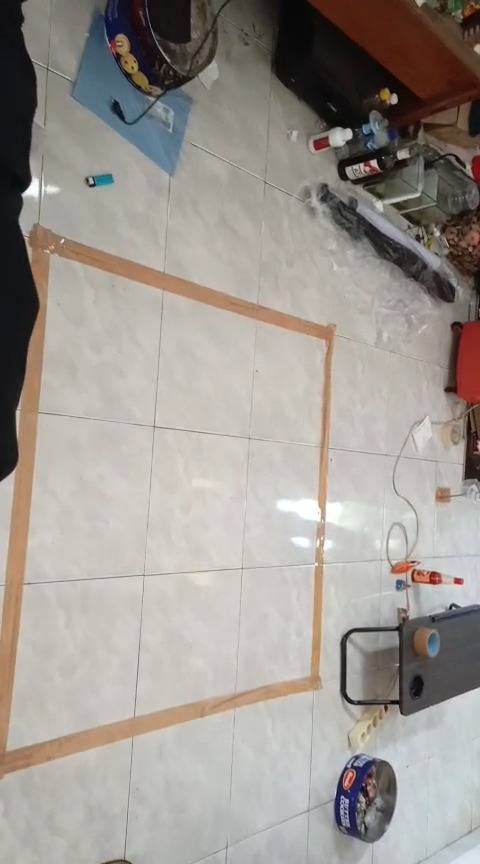floor marking: (0, 224, 334, 778)
